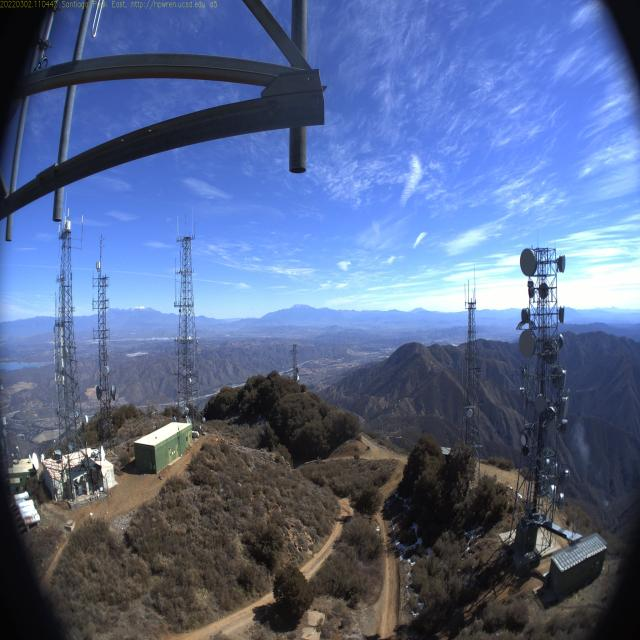smoke: (595, 456, 620, 524), (570, 417, 593, 469)
